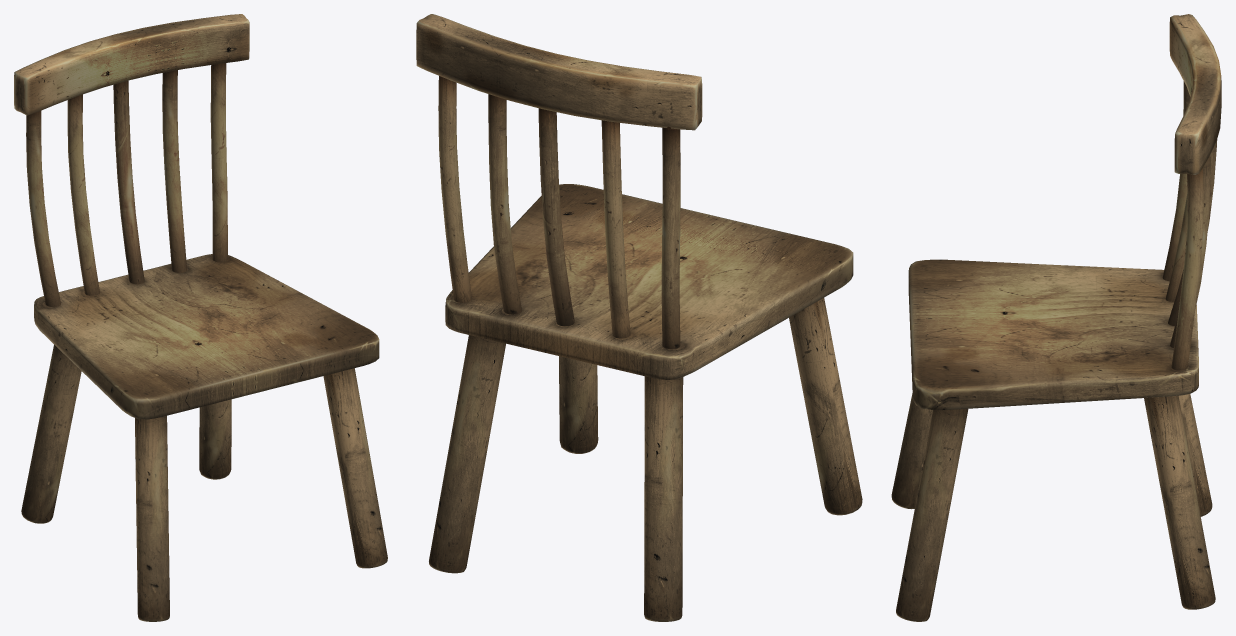
Rendered from woodchair.fbx.
3 renders of one model, left to right at view 1: azimuth 30°, elevation 25°; view 2: azimuth 150°, elevation 25°; view 3: azimuth 270°, elevation 25°, orthographic. The views are drawn at different scales.
Visible parts, largest first — view 1: B9_Woodenchairs; view 2: B9_Woodenchairs; view 3: B9_Woodenchairs.
Boxes of the visible parts, x1=… form: B9_Woodenchairs: x1=14, y1=14, x2=387, y2=621; B9_Woodenchairs: x1=416, y1=14, x2=862, y2=621; B9_Woodenchairs: x1=891, y1=14, x2=1221, y2=621.
Bounding box in the file's own units: 64.62 × 113 × 69.16.
Materials: 1 (1 with a texture image).
